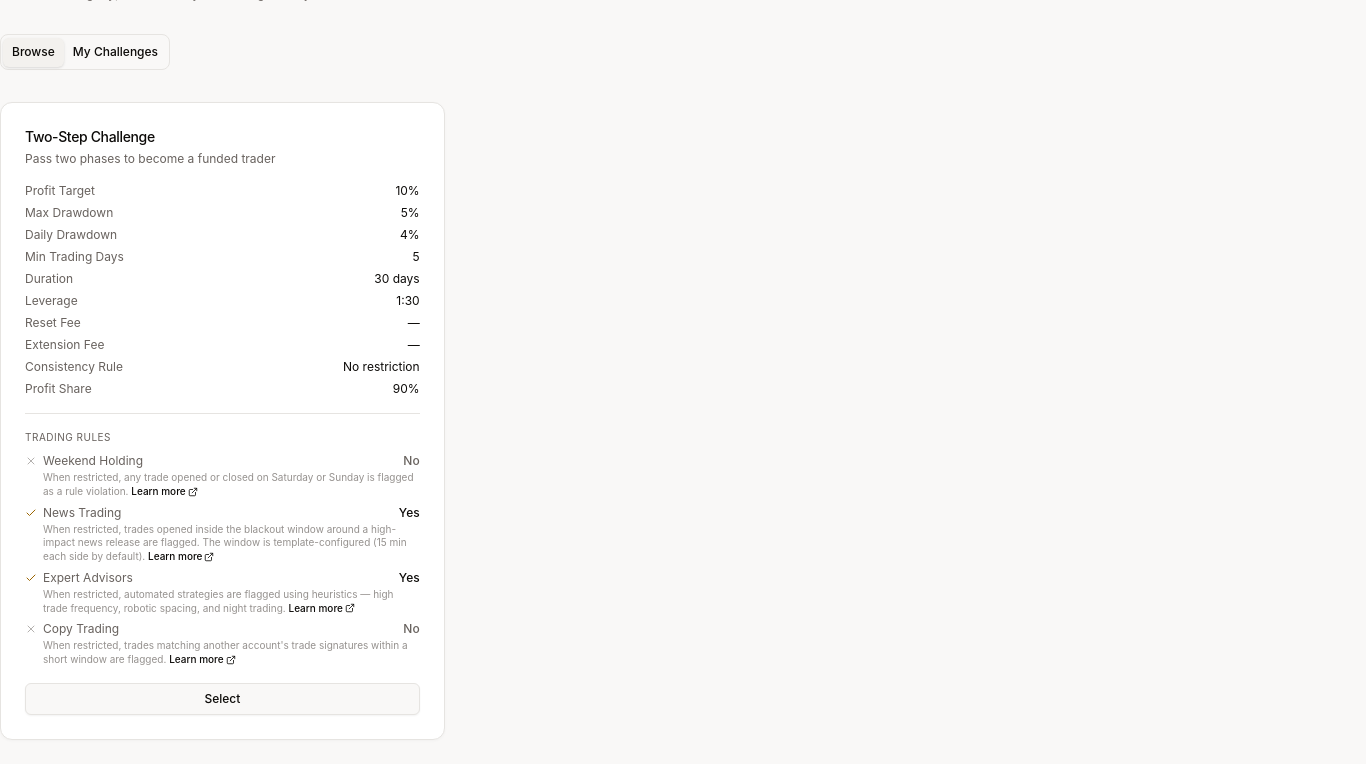
Scenario: Challenges Page › Account Size Selection › shows total price after selecting a size
This screenshot has width=1366, height=764.
(page scrolled)
Click the button "Select".
click(222, 699)  # box [25, 683, 420, 715]
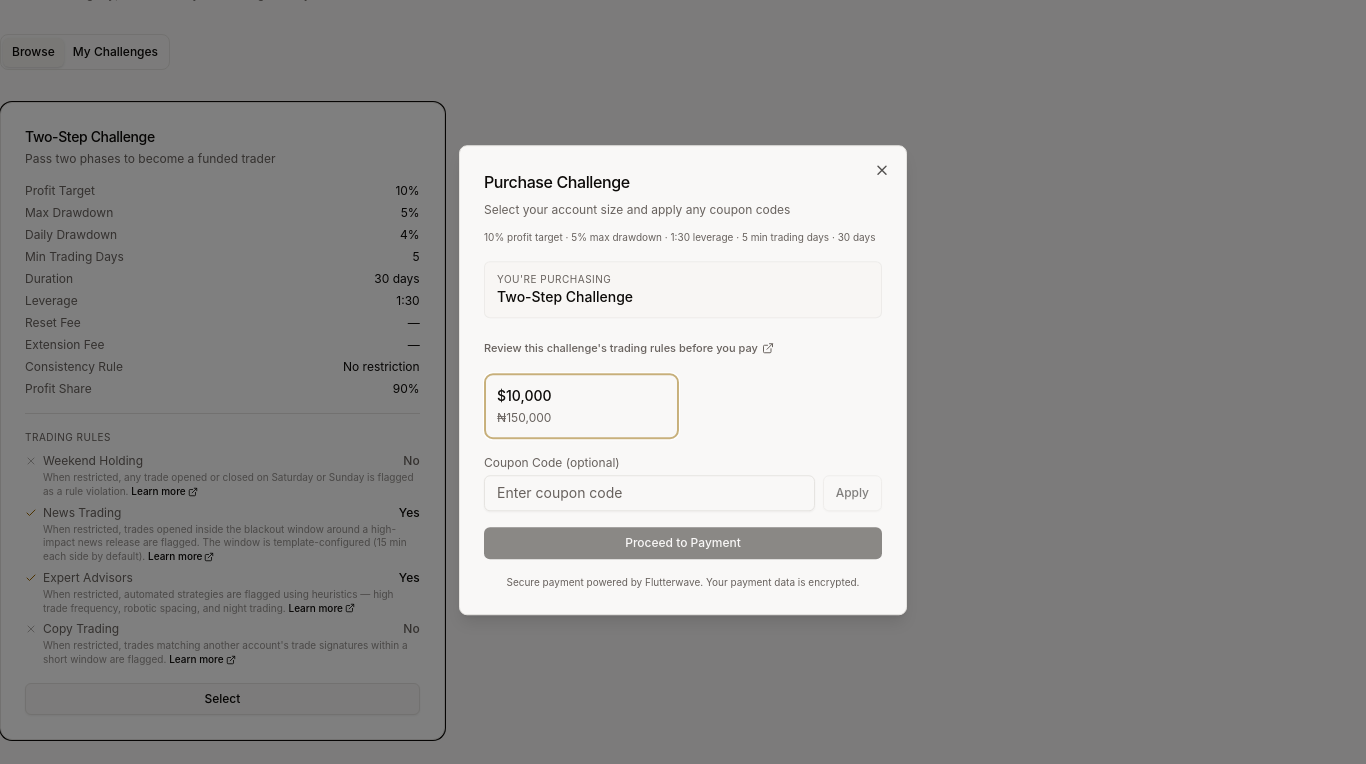
Click the button "$10,000 ₦150,000".
click(582, 406)  # box [484, 373, 679, 439]
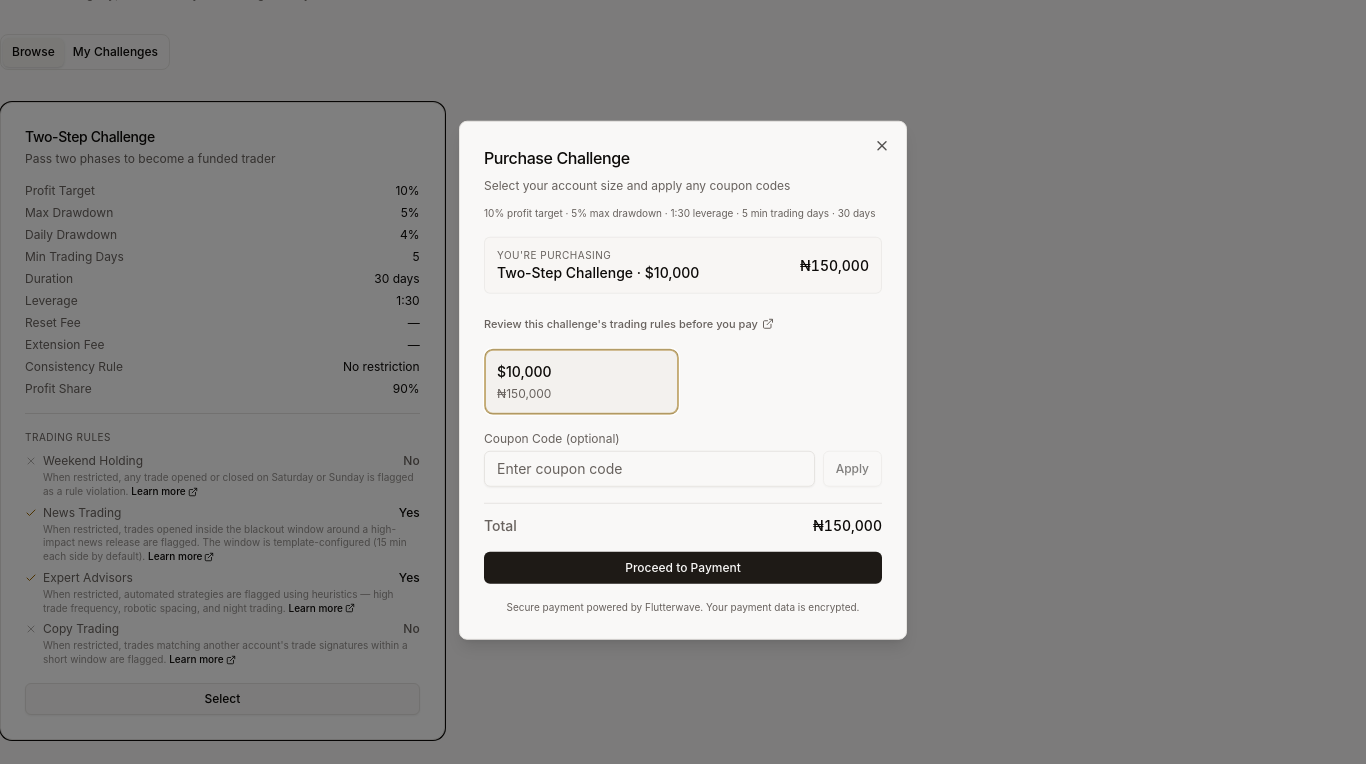
Expected: the text "Total" is shown, [484, 515, 517, 535]
